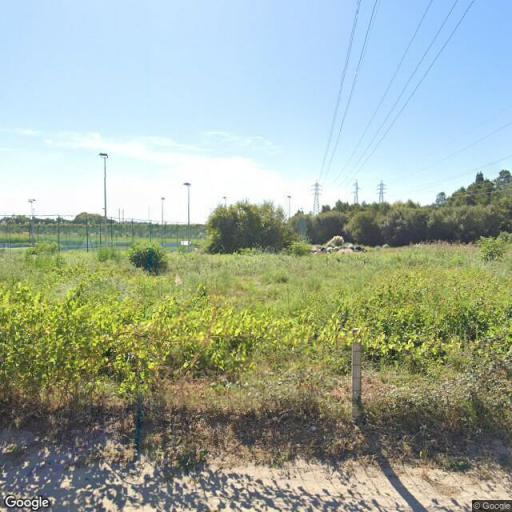ss_3: (310, 179, 322, 216), (376, 179, 386, 203)
ss_4: (351, 180, 360, 203)
